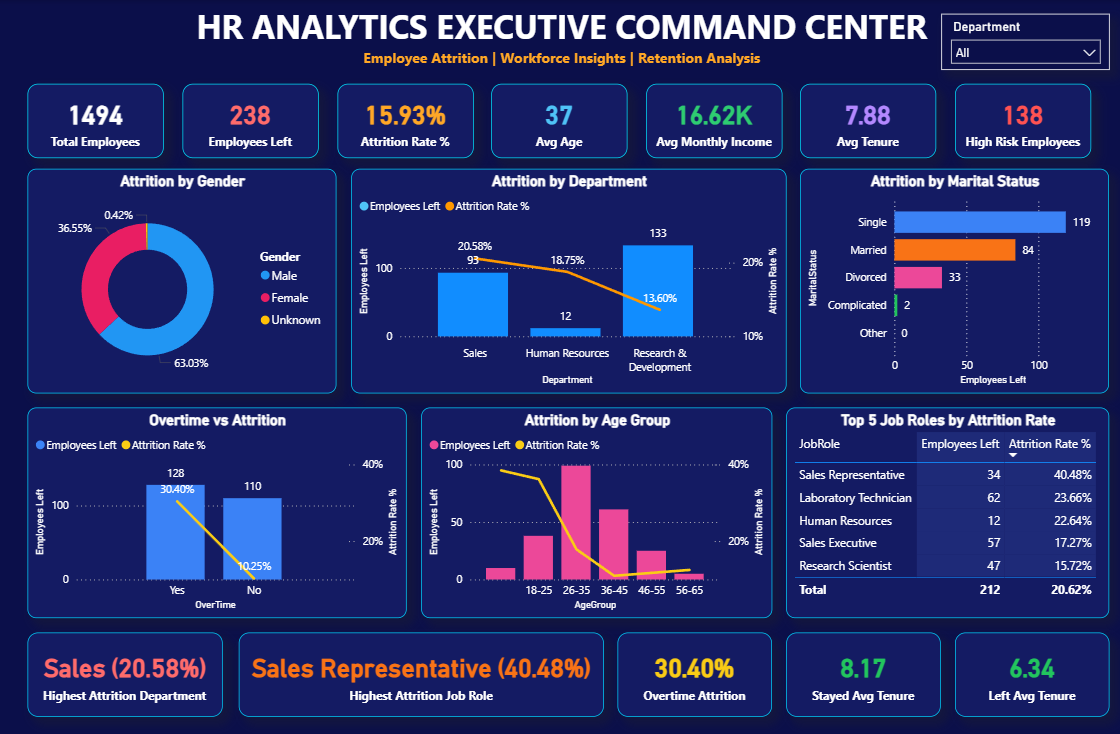

Layout of this report page (visuals, bound fields, positions):
{"tool":"powerbi","page":{"name":"Page 1","canvas":[1280,850],"ordinal":0},"visuals":[{"type":"textbox","box":[0,0,1280,96],"z":0},{"type":"slicer","fields":{"Values":["HR_Analytics_Final.Department"]},"box":[1072,16,192,64],"z":1000},{"type":"card","title":"Total Sales","fields":{"Values":["HR_Analytics_Final.Total Employees"]},"box":[32,96,155,85],"z":2000},{"type":"card","title":"Total Sales","fields":{"Values":["HR_Analytics_Final.Employees Left"]},"box":[208,96,155,85],"z":3000},{"type":"card","title":"Total Sales","fields":{"Values":["HR_Analytics_Final.Attrition Rate %"]},"box":[384,96,155,85],"z":4000},{"type":"card","title":"Total Sales","fields":{"Values":["HR_Analytics_Final.Avg Age"]},"box":[560,96,155,85],"z":5000},{"type":"card","title":"Total Sales","fields":{"Values":["HR_Analytics_Final.Avg Monthly Income"]},"box":[736,96,155,85],"z":6000},{"type":"card","title":"Total Sales","fields":{"Values":["HR_Analytics_Final.Avg Tenure"]},"box":[912,96,155,85],"z":7000},{"type":"card","title":"Total Sales","fields":{"Values":["HR_Analytics_Final.High Risk Employees"]},"box":[1088,96,155,85],"z":8000},{"type":"donutChart","title":"Attrition by Gender","fields":{"Category":["HR_Analytics_Final.Gender"],"Y":["HR_Analytics_Final.Employees Left"]},"box":[32,192,352,256],"z":9000},{"type":"lineClusteredColumnComboChart","title":"Attrition by Department","fields":{"Category":["HR_Analytics_Final.Department"],"Y":["HR_Analytics_Final.Employees Left"],"Y2":["HR_Analytics_Final.Attrition Rate %"]},"box":[400,192,496,256],"z":10000},{"type":"clusteredBarChart","title":"Attrition by Marital Status","fields":{"Category":["HR_Analytics_Final.MaritalStatus"],"Y":["HR_Analytics_Final.Employees Left"]},"box":[912,192,352,256],"z":11000},{"type":"lineClusteredColumnComboChart","title":"Overtime vs Attrition","fields":{"Category":["HR_Analytics_Final.OverTime"],"Y":["HR_Analytics_Final.Employees Left"],"Y2":["HR_Analytics_Final.Attrition Rate %"]},"box":[32,464,432,240],"z":12000},{"type":"lineClusteredColumnComboChart","title":"Attrition by Age Group","fields":{"Category":["HR_Analytics_Final.AgeGroup"],"Y":["HR_Analytics_Final.Employees Left"],"Y2":["HR_Analytics_Final.Attrition Rate %"]},"box":[480,464,400,240],"z":13000},{"type":"tableEx","title":"Top 5 Job Roles by Attrition Rate","fields":{"Values":["HR_Analytics_Final.JobRole","HR_Analytics_Final.Employees Left","HR_Analytics_Final.Attrition Rate %"]},"box":[896,464,368,240],"z":14000},{"type":"card","title":"Total Sales","fields":{"Values":["HR_Analytics_Final.Highest Attrition Department"]},"box":[32,720,222,96],"z":14001},{"type":"card","title":"Total Sales","fields":{"Values":["HR_Analytics_Final.Highest Attrition Job Role"]},"box":[272,720,416,96],"z":14002},{"type":"card","title":"Total Sales","fields":{"Values":["HR_Analytics_Final.Overtime Attrition"]},"box":[704,720,176,96],"z":14003},{"type":"card","title":"Total Sales","fields":{"Values":["HR_Analytics_Final.Stayed Avg Tenure"]},"box":[896,720,176,96],"z":14004},{"type":"card","title":"Total Sales","fields":{"Values":["HR_Analytics_Final.Left Avg Tenure"]},"box":[1088,720,176,96],"z":14005}]}

Visuals, with their boxes in screenshot pixels (x1, y1, x2, y2), scaled from the page's 1280x850 canvas onto the 1120x734 screenshot:
textbox: 0/0/1119/83
slicer - HR_Analytics_Final.Department: 938/14/1106/69
"Total Sales" card: 28/83/164/156
"Total Sales" card: 182/83/318/156
"Total Sales" card: 336/83/472/156
"Total Sales" card: 490/83/626/156
"Total Sales" card: 644/83/780/156
"Total Sales" card: 798/83/934/156
"Total Sales" card: 952/83/1088/156
"Attrition by Gender" donutChart: 28/166/336/387
"Attrition by Department" lineClusteredColumnComboChart: 350/166/784/387
"Attrition by Marital Status" clusteredBarChart: 798/166/1106/387
"Overtime vs Attrition" lineClusteredColumnComboChart: 28/401/406/608
"Attrition by Age Group" lineClusteredColumnComboChart: 420/401/770/608
"Top 5 Job Roles by Attrition Rate" tableEx: 784/401/1106/608
"Total Sales" card: 28/622/222/705
"Total Sales" card: 238/622/602/705
"Total Sales" card: 616/622/770/705
"Total Sales" card: 784/622/938/705
"Total Sales" card: 952/622/1106/705
